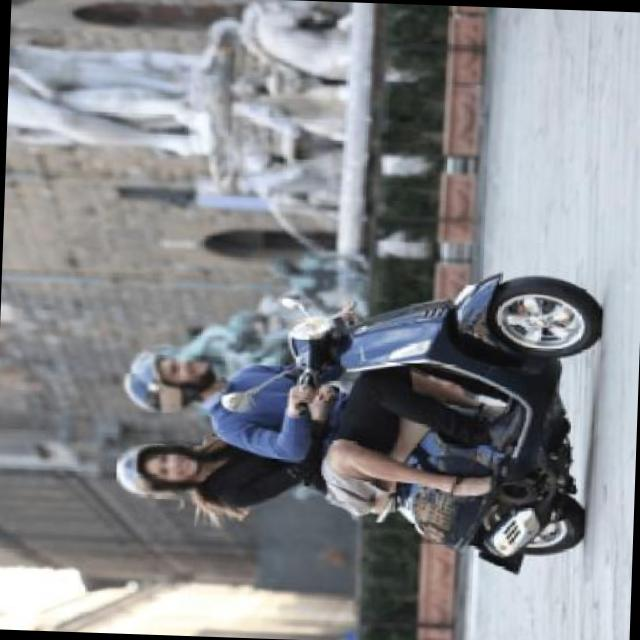With Helmet: (117, 342, 218, 413), (115, 442, 203, 500)
